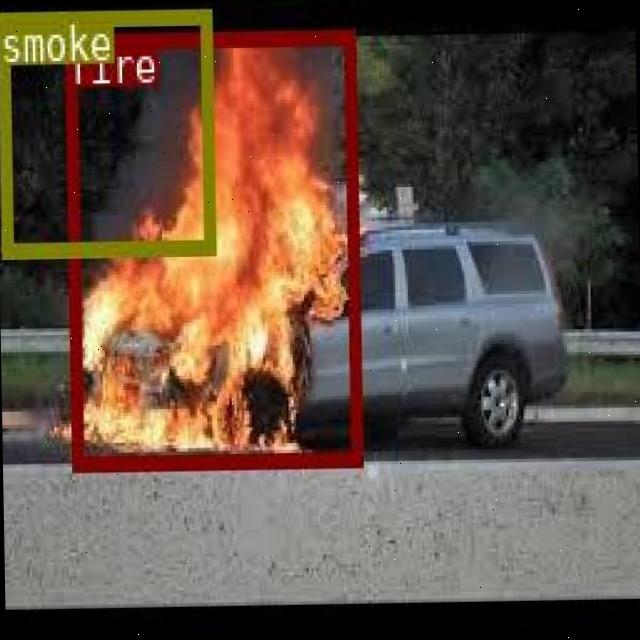fire: (62, 26, 360, 468)
smoke: (0, 6, 212, 253)
